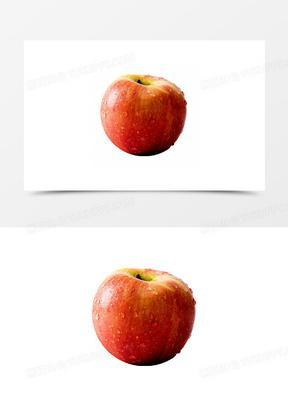apple: (90, 264, 195, 365), (99, 73, 187, 158)
